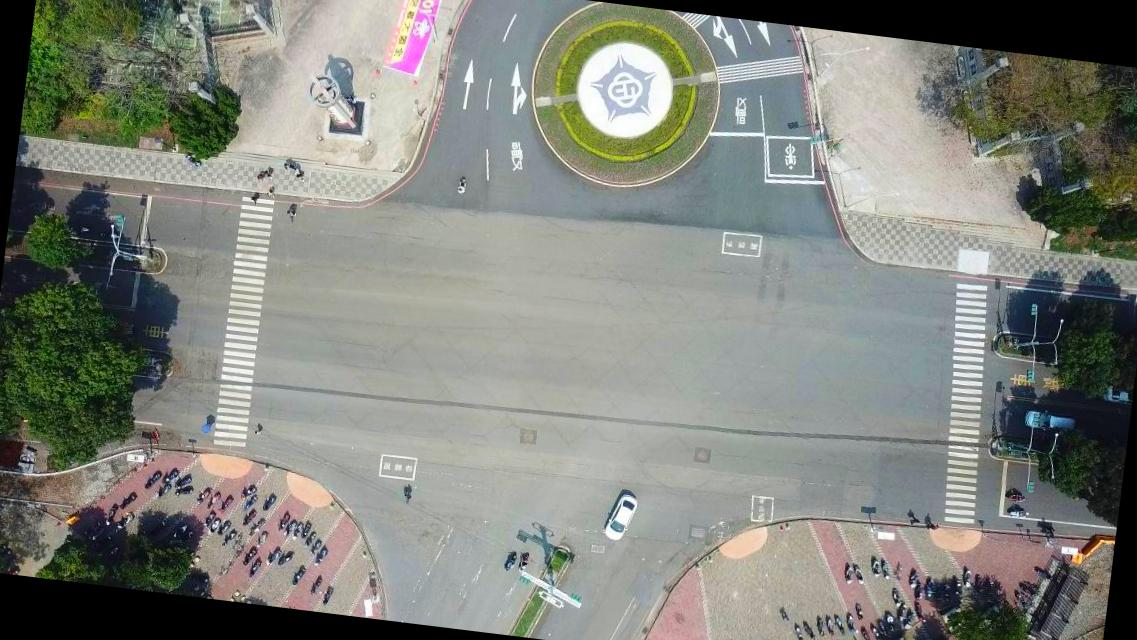vehicle: (602, 491, 638, 541), (1024, 408, 1076, 433), (1098, 383, 1132, 405)
